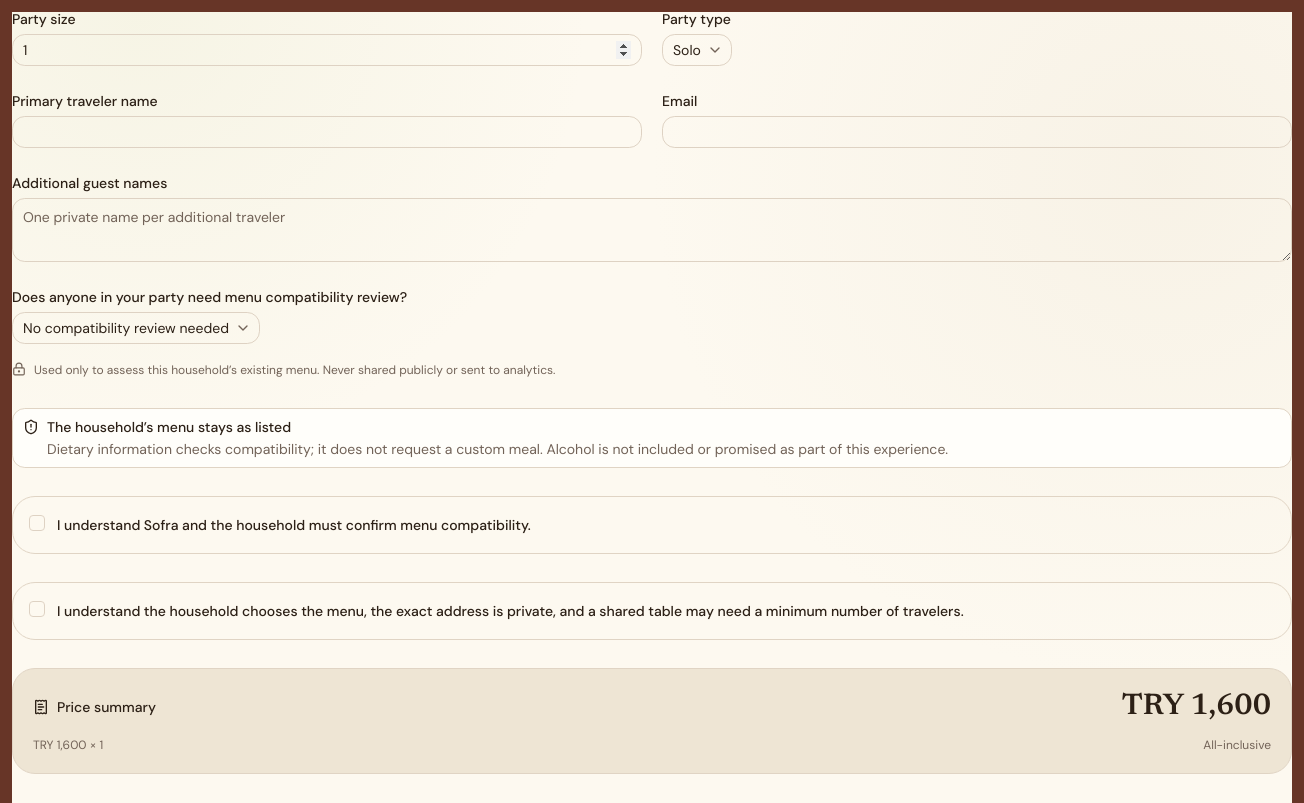
Test: guest price display › shows the all-inclusive total and updates it with party size
This screenshot has width=1304, height=803.
Expected: the text "TRY 1,600" is shown, [1122,689,1271,725]
Replace the text in the number field labelled "Party size" with "2" at (327, 50), box [12,34,642,66]
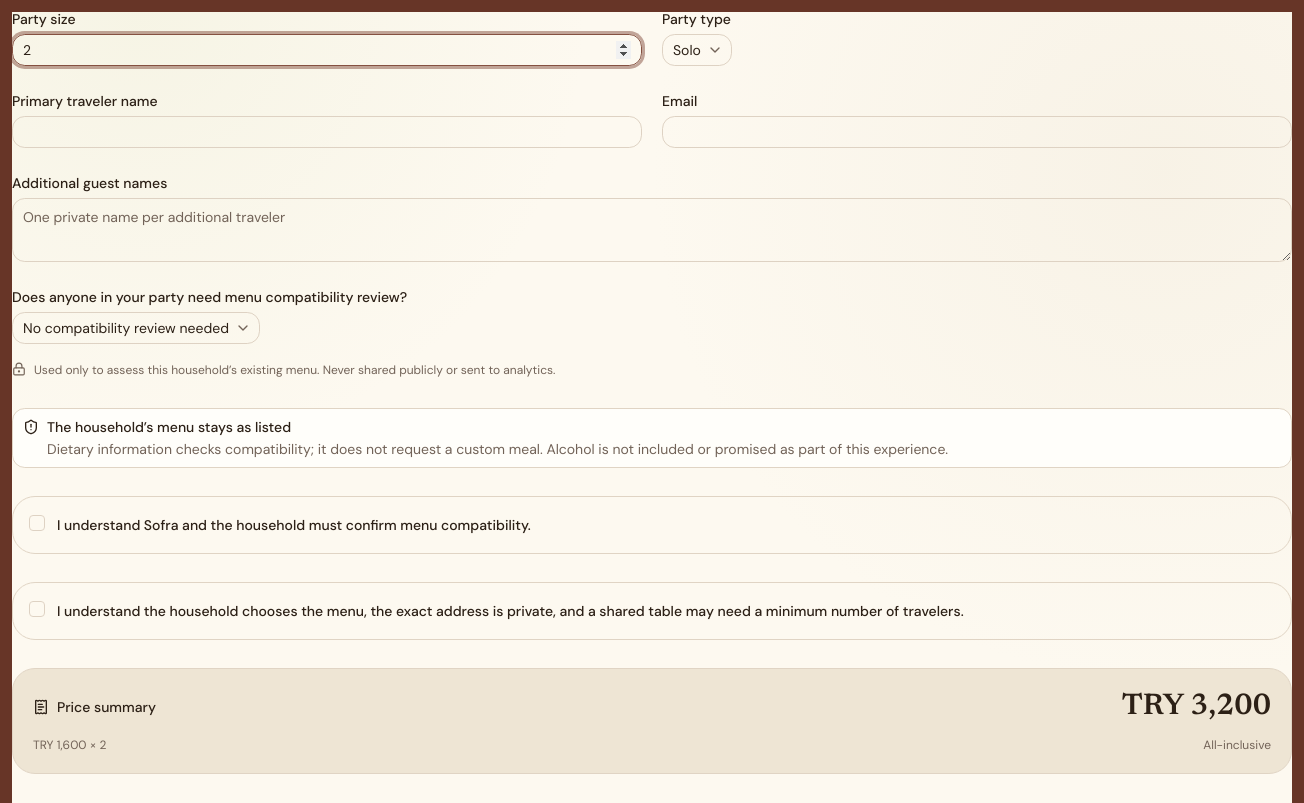
Expected: the text "All-inclusive" is shown, [1203,737,1271,753]
Expected: the text "TRY 3,200" is shown, [1122,689,1271,725]
